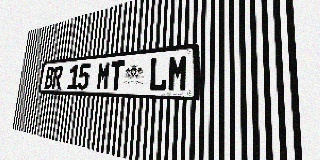1: (67, 64, 80, 90)
5: (77, 63, 91, 90)
B: (44, 66, 55, 89)
L: (148, 56, 168, 91)
M: (167, 54, 189, 92), (96, 61, 111, 90)
R: (52, 66, 63, 89)
T: (109, 60, 125, 91)
